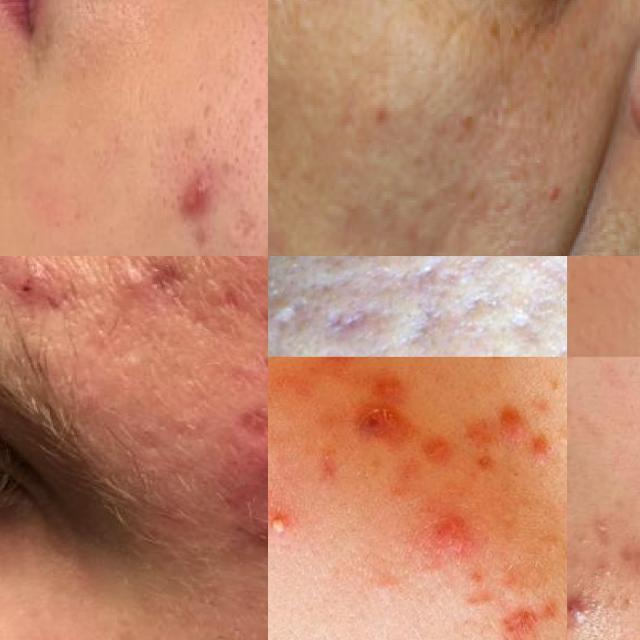acne_scars: (230, 297, 268, 402), (322, 290, 384, 334), (413, 256, 462, 289), (385, 345, 451, 357)
comedone: (102, 256, 166, 303), (93, 348, 175, 384), (111, 446, 181, 484), (122, 417, 173, 446), (268, 282, 304, 322), (590, 502, 620, 545), (618, 581, 638, 613), (508, 456, 528, 487), (527, 489, 542, 522), (575, 524, 590, 552), (256, 596, 268, 620)
papule: (405, 501, 526, 568), (0, 256, 69, 321), (340, 394, 407, 452), (485, 594, 563, 640), (404, 426, 466, 477), (292, 357, 371, 381), (498, 392, 533, 440), (567, 588, 595, 625), (619, 536, 640, 579)
pustule: (268, 505, 304, 539)
sebo-crystan-conglo: (166, 149, 232, 229)
